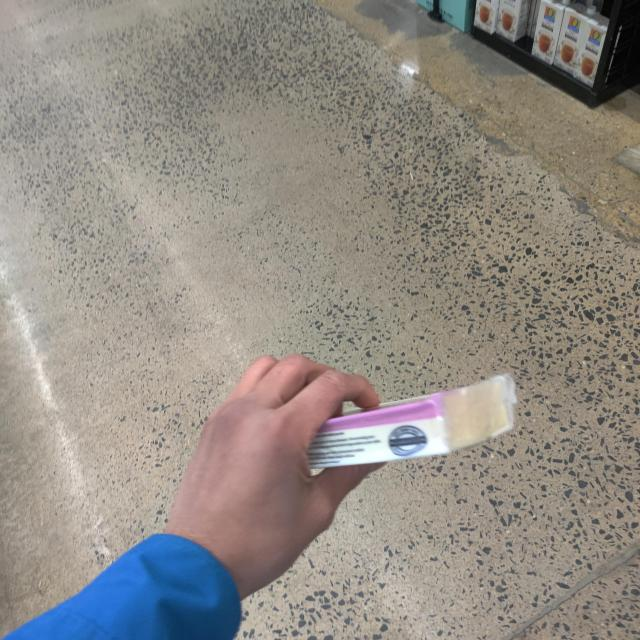Cheese: (306, 371, 522, 469)
